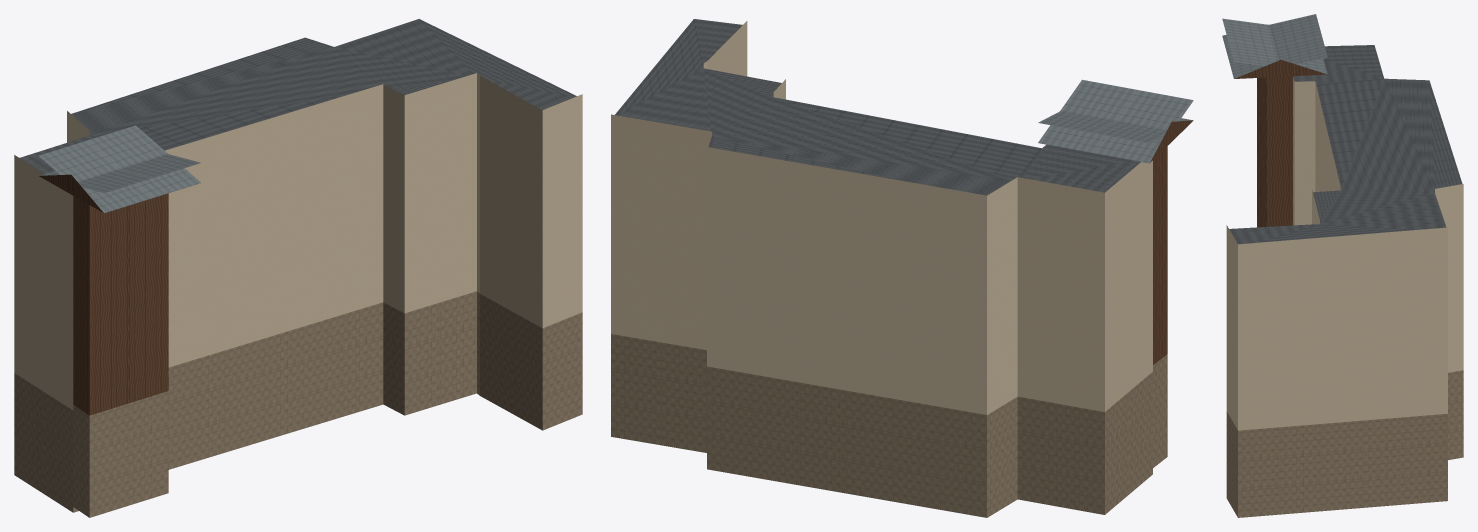
The model's file is bld_c-1_1_534.gltf.
3 views of the same model, side by side, from view 1: azimuth 30°, elevation 25°; view 2: azimuth 150°, elevation 25°; view 3: azimuth 270°, elevation 25° (orthographic). The views are drawn at different scales.
Visible parts, largest first — view 1: bld_c-1_1_534; view 2: bld_c-1_1_534; view 3: bld_c-1_1_534.
Part boxes in pixels (x1=…): bld_c-1_1_534: x1=14, y1=19, x2=582, y2=517; bld_c-1_1_534: x1=611, y1=19, x2=1193, y2=517; bld_c-1_1_534: x1=1222, y1=14, x2=1463, y2=517.
Size of the model in its own units: 26.02 by 17.3 by 12.79.
7 materials, 7 textured.
